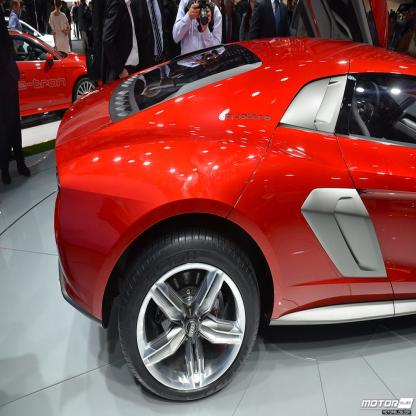Car: (55, 1, 416, 405), (9, 28, 104, 124), (6, 1, 86, 53)
